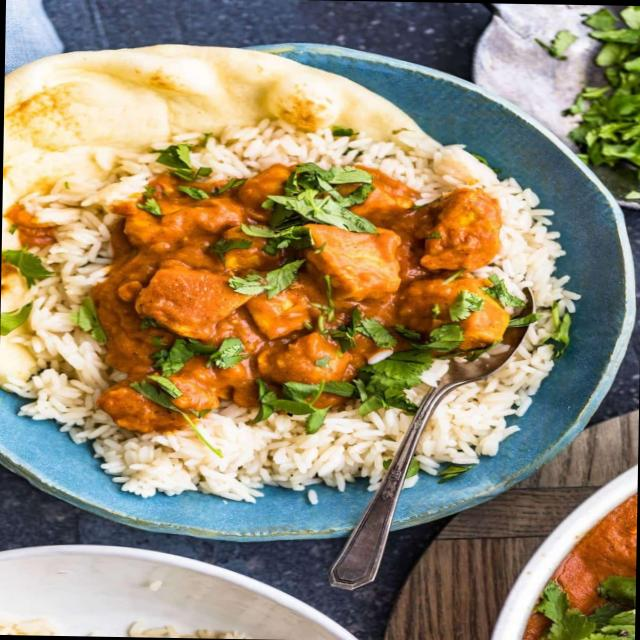chicken: (86, 164, 498, 430)
rice: (36, 195, 566, 500)
roti: (2, 44, 394, 174)
